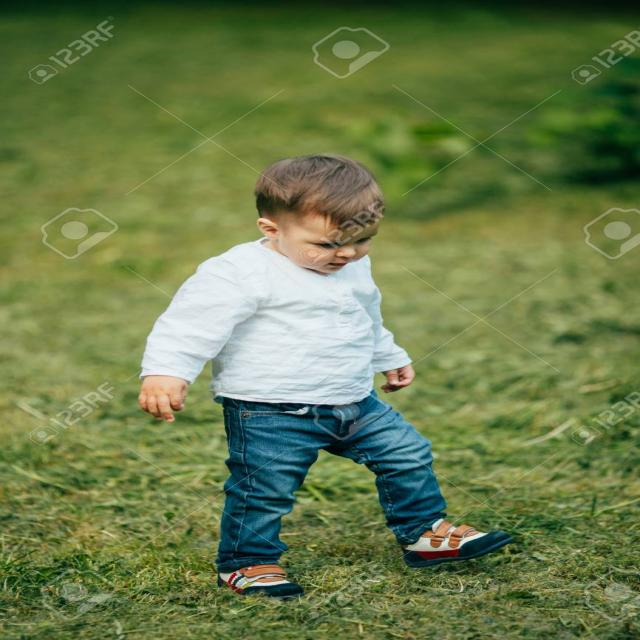Person: (142, 156, 514, 596)
